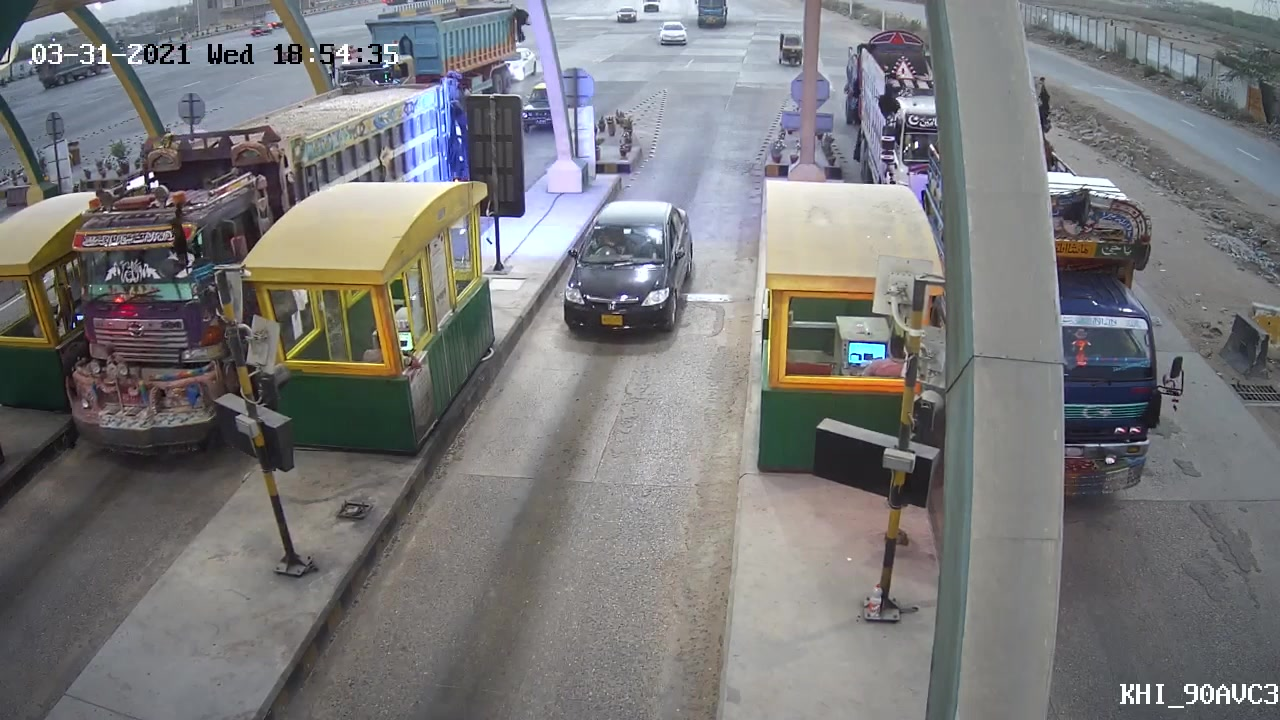F1: (557, 194, 700, 344)
